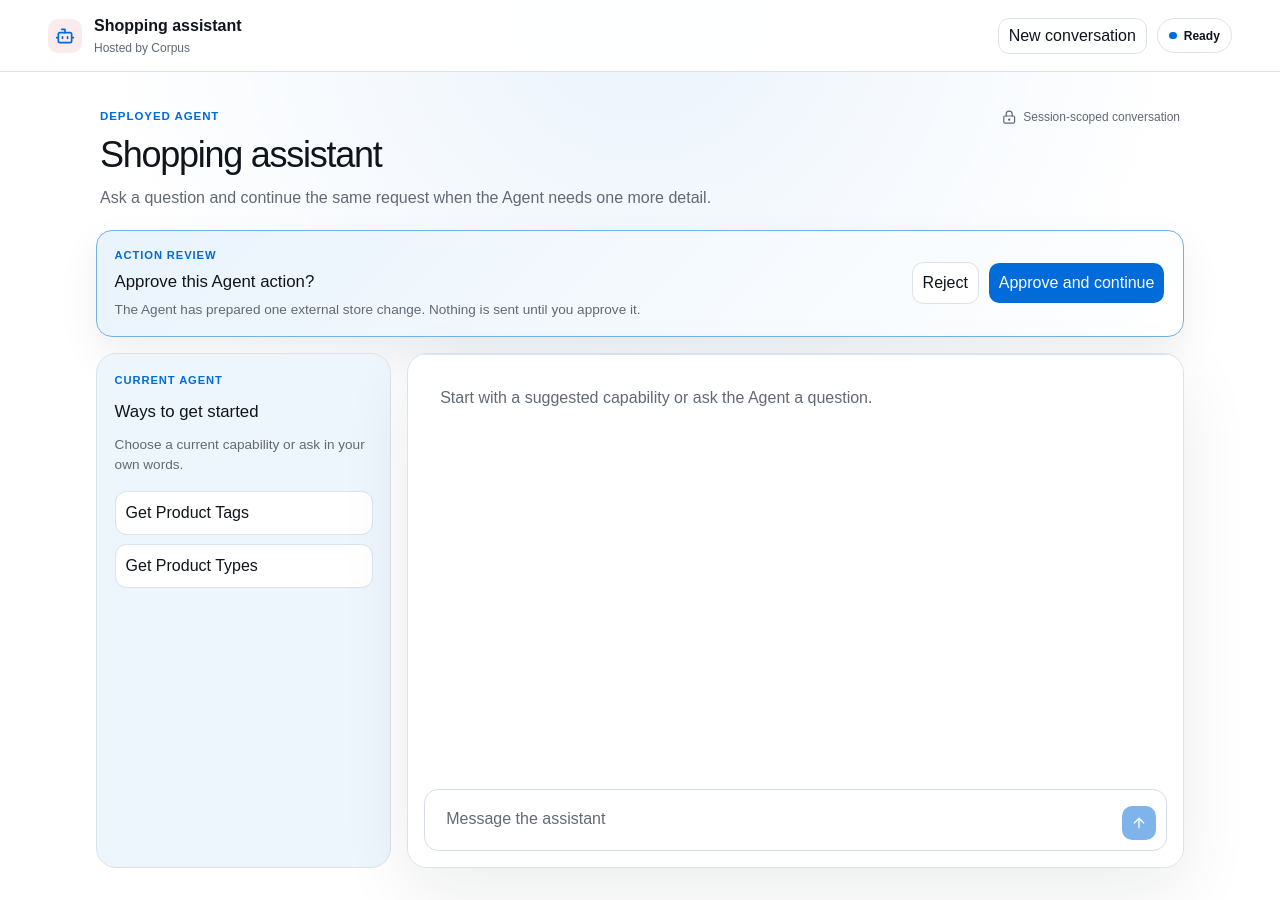
renders public-safe current RouteDeck suggestions and sends the owner's selected prompt
Expected: the heading "Ways to get started" is shown, [115, 402, 259, 421]
Click the button "Get Product Tags" at (244, 513), box [115, 491, 373, 535]
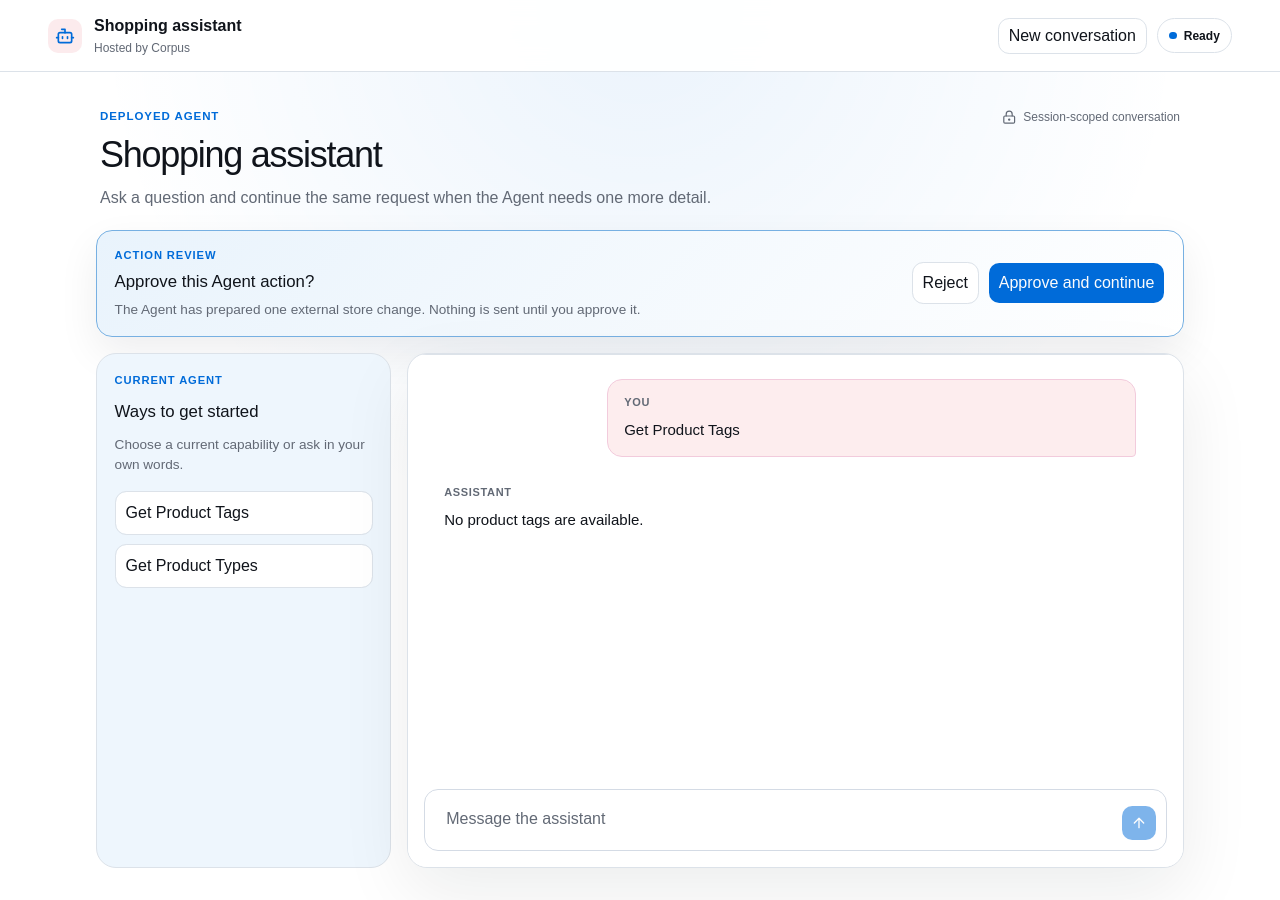
Expected: the text "No product tags are available." is shown, [444, 511, 644, 528]
